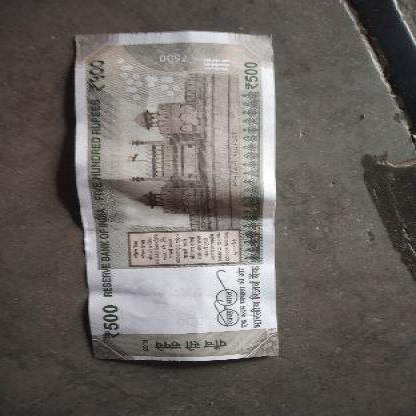New500Back: (74, 37, 278, 359)
